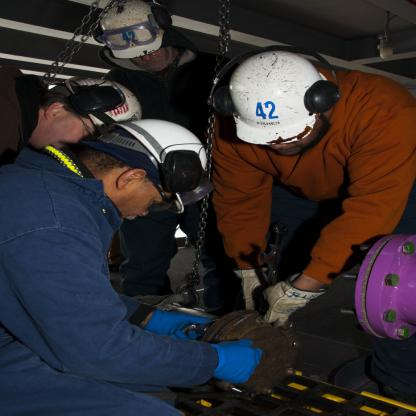Helmet: (80, 117, 219, 217), (219, 47, 342, 144), (62, 77, 145, 132), (94, 0, 171, 57)
